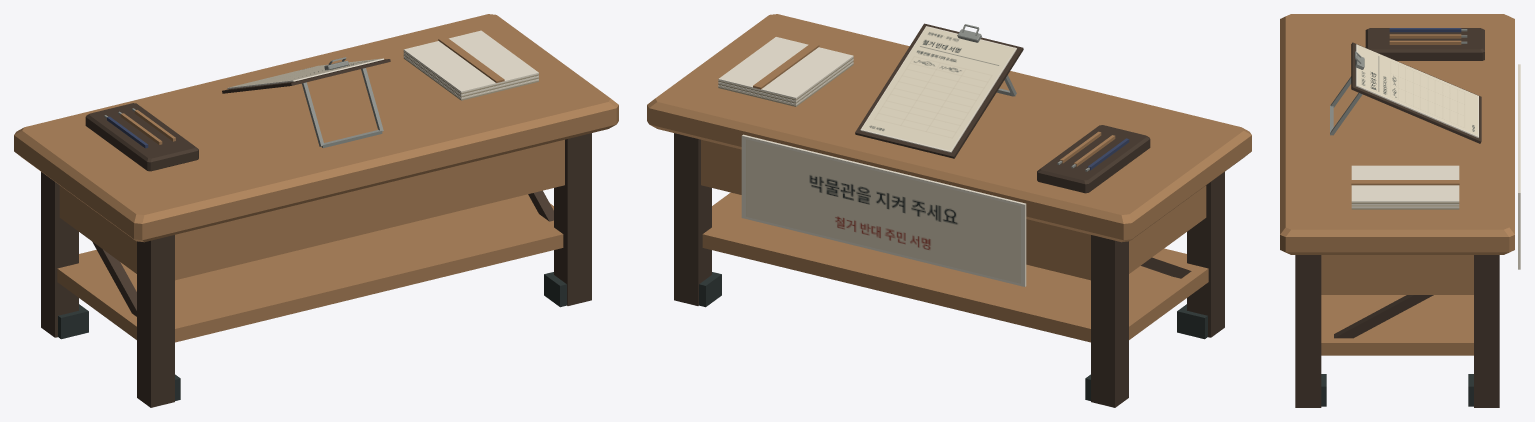
File: D10_Signatures_Before.fbx
The picture shows the model from 3 angles, left to right: view 1: azimuth 30°, elevation 25°; view 2: azimuth 150°, elevation 25°; view 3: azimuth 270°, elevation 25°; orthographic projection. The views are drawn at different scales.
Parts seen in each view (by area): view 1: Signature_Table, Paper_Stack, Pen_Tray, Clipboard, Front_Petition_Pages; view 2: Signature_Table, Front_Signature_Plaque, Front_Petition_Pages, Paper_Stack, Pen_Tray, Clipboard; view 3: Signature_Table, Front_Petition_Pages, Paper_Stack, Pen_Tray, Clipboard, Front_Signature_Plaque.
Part boxes in pixels (bbox=[...]): Signature_Table: bbox=[14, 14, 618, 407]; Paper_Stack: bbox=[403, 30, 538, 100]; Pen_Tray: bbox=[85, 103, 198, 171]; Clipboard: bbox=[222, 57, 390, 148]; Front_Petition_Pages: bbox=[227, 58, 383, 88]; Signature_Table: bbox=[647, 14, 1251, 407]; Front_Signature_Plaque: bbox=[741, 134, 1026, 286]; Front_Petition_Pages: bbox=[860, 26, 1016, 152]; Paper_Stack: bbox=[718, 37, 853, 106]; Pen_Tray: bbox=[1037, 125, 1150, 193]; Clipboard: bbox=[855, 23, 1023, 158]; Signature_Table: bbox=[1280, 14, 1514, 407]; Front_Petition_Pages: bbox=[1355, 44, 1478, 137]; Paper_Stack: bbox=[1351, 165, 1459, 209]; Pen_Tray: bbox=[1365, 28, 1484, 60]; Clipboard: bbox=[1330, 42, 1481, 143]; Front_Signature_Plaque: bbox=[1518, 64, 1520, 269].
Bounding box in the file's own units: 2.62 × 1.4 × 1.21.
8 materials, 1 textured.
